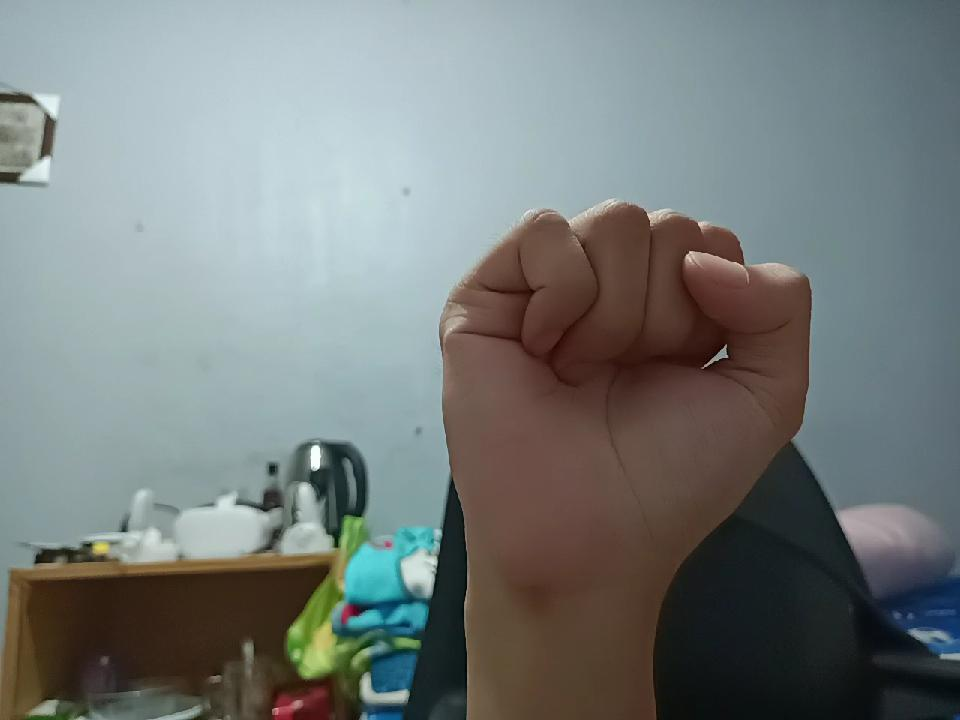rock: (448, 184, 794, 608)
